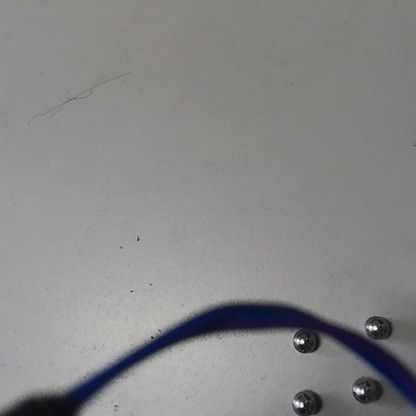ironball: (350, 376, 379, 404), (291, 388, 320, 415), (292, 327, 319, 353), (364, 315, 390, 339)
